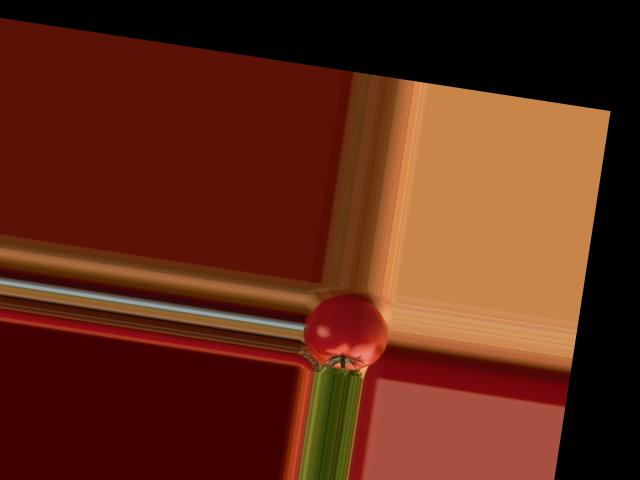tomato: (299, 290, 393, 375)
